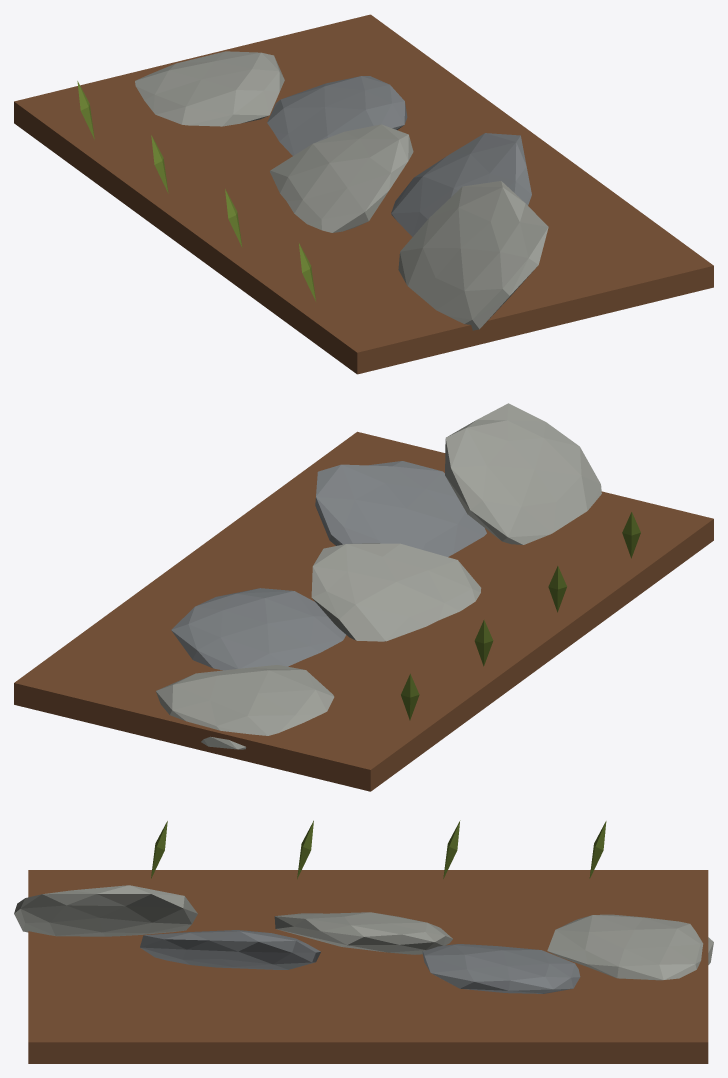
The model's file is 61_worked_ground_path.fbx.
3 renders of one model, top to bottom at view 1: azimuth 30°, elevation 25°; view 2: azimuth 150°, elevation 25°; view 3: azimuth 270°, elevation 25°, orthographic.
Parts seen in each view (by area): view 1: 61_worked_ground_path; view 2: 61_worked_ground_path; view 3: 61_worked_ground_path.
Part boxes in pixels (bbox=[...]): 61_worked_ground_path: bbox=[14, 14, 713, 374]; 61_worked_ground_path: bbox=[14, 403, 713, 791]; 61_worked_ground_path: bbox=[14, 820, 713, 1063].
Size of the model in its own units: 1.2 by 0.3283 by 2.06.
Materials: 1 (1 with a texture image).
